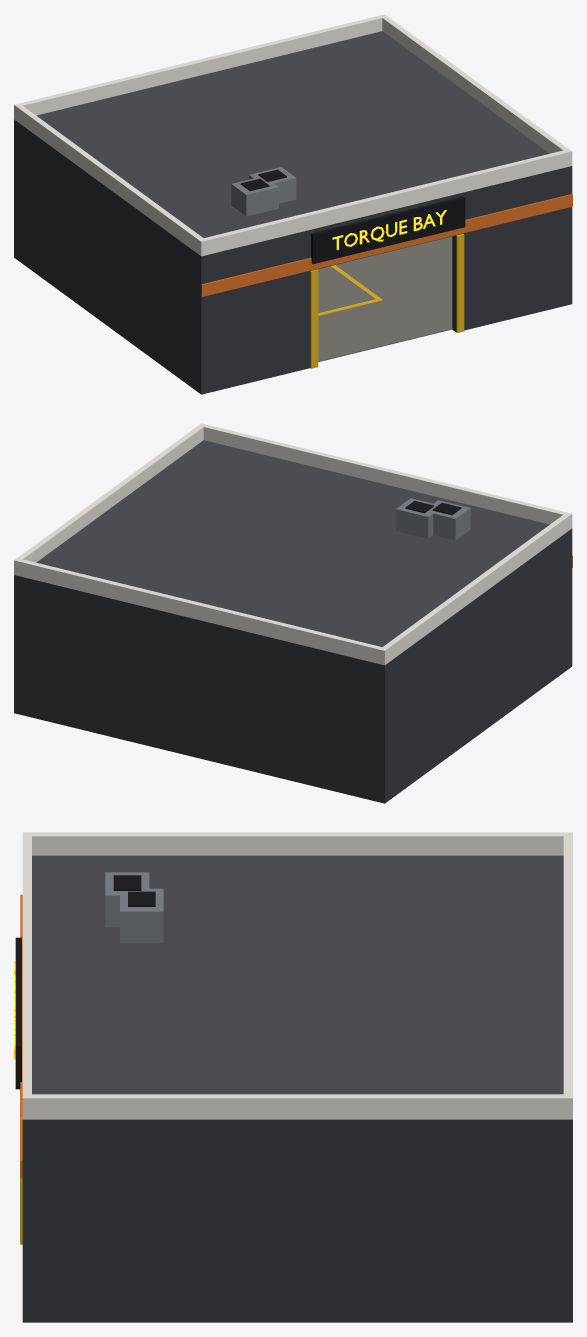
Rendered from shop_mods.glb.
3 renders of one model, top to bottom at view 1: azimuth 30°, elevation 25°; view 2: azimuth 150°, elevation 25°; view 3: azimuth 270°, elevation 25°, orthographic. The views are drawn at different scales.
Visible parts, largest first — view 1: shop_mods_Body, shop_mods_SignBoard, shop_mods_Sign; view 2: shop_mods_Body; view 3: shop_mods_Body, shop_mods_SignBoard.
Boxes of the visible parts, bbox=[...] form: shop_mods_Body: bbox=[14, 14, 572, 394]; shop_mods_SignBoard: bbox=[311, 196, 465, 264]; shop_mods_Sign: bbox=[332, 210, 446, 249]; shop_mods_Body: bbox=[14, 423, 572, 803]; shop_mods_Body: bbox=[20, 832, 572, 1322]; shop_mods_SignBoard: bbox=[15, 937, 21, 1089].
Size of the model in its own units: 16 by 6.7 by 14.22.
